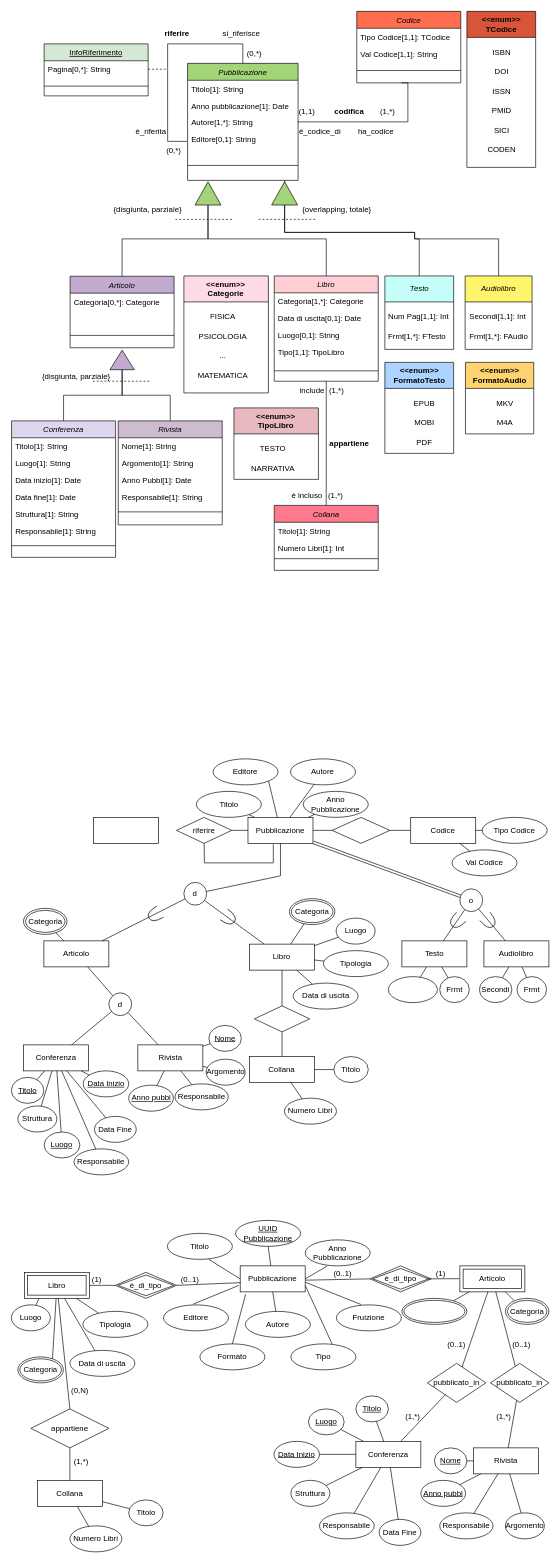
Image size: 560x1563. Some labels were removed from this diagram. Here are the shapes that lost their labels. From the top down, the centre of each, then its label:
At [125,830]: "Riferimento".
At [360,830]: "codificare".
At [412,989]: "Num Pagine".
At [282,1018]: "Relationship".
At [434,1311]: "Mod Pubbl".
